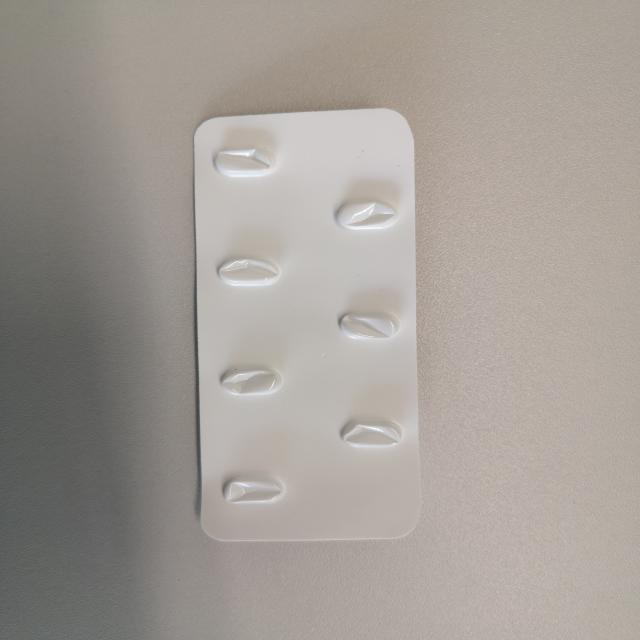Empty: (334, 198, 402, 233), (214, 254, 284, 288), (217, 364, 287, 398), (337, 417, 409, 450), (210, 146, 281, 179), (218, 475, 286, 509), (335, 308, 403, 341)
